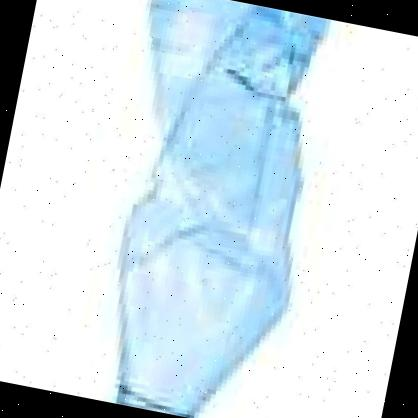bottle: (69, 0, 363, 418)
